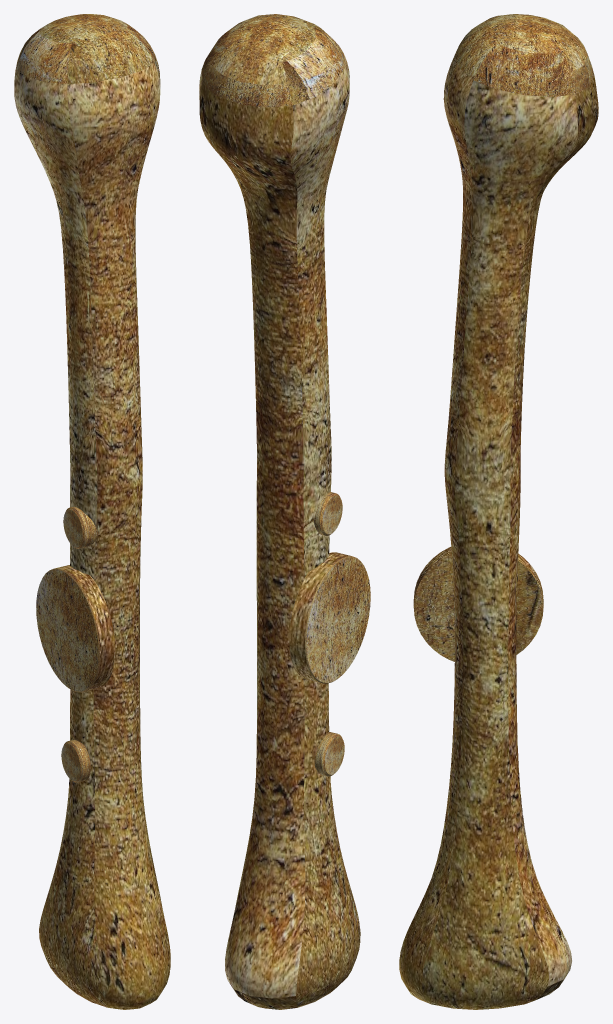
File: bone2.fbx
3 renders of one model, left to right at view 1: azimuth 30°, elevation 25°; view 2: azimuth 150°, elevation 25°; view 3: azimuth 270°, elevation 25°, orthographic. The views are drawn at different scales.
Parts seen in each view (by area): view 1: bone, middle_big_button, top_botton, small_bottom_button; view 2: bone, middle_big_button, small_bottom_button, top_botton; view 3: bone, middle_big_button.
Part boxes in pixels (x1,y1,x2,y2): bone: (14, 14, 170, 1009); middle_big_button: (36, 565, 115, 692); top_botton: (63, 506, 98, 548); small_bottom_button: (61, 740, 90, 782); bone: (199, 14, 360, 1009); middle_big_button: (289, 552, 370, 683); small_bottom_button: (314, 732, 344, 776); top_botton: (314, 492, 342, 535); bone: (399, 14, 598, 1009); middle_big_button: (413, 547, 543, 661).
Size of the model in its own units: 2.27 by 16.65 by 3.07.
